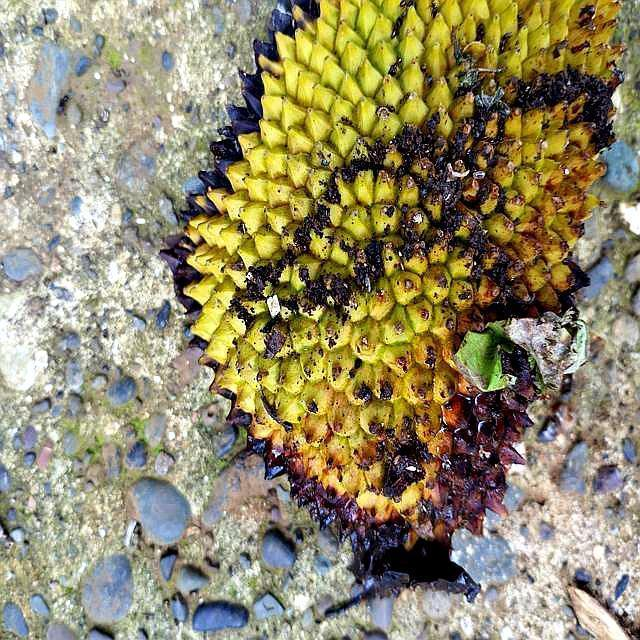Biodegradable: (195, 3, 625, 541)
